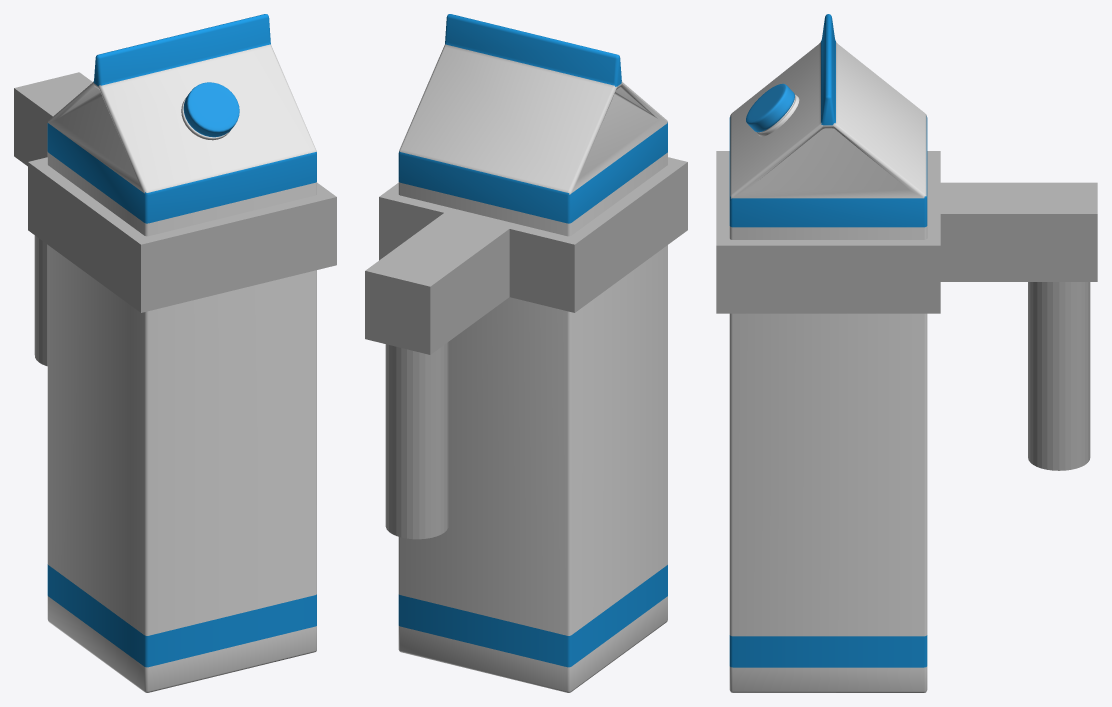
Rendered from carton_handle.fbx.
3 renders of one model, left to right at view 1: azimuth 30°, elevation 25°; view 2: azimuth 150°, elevation 25°; view 3: azimuth 270°, elevation 25°, orthographic.
Parts seen in each view (by area): view 1: Cube, Cube.001, Cube.002, Cylinder, Cylinder.001; view 2: Cube, Cube.001, Cube.002, Cylinder.001; view 3: Cube, Cube.001, Cube.002, Cylinder.001, Cylinder.
Part boxes in pixels (x1=…): Cube: x1=47, y1=14, x2=316, y2=692; Cube.001: x1=28, y1=157, x2=336, y2=312; Cube.002: x1=14, y1=72, x2=92, y2=166; Cylinder: x1=181, y1=82, x2=239, y2=140; Cylinder.001: x1=34, y1=235, x2=47, y2=366; Cube: x1=398, y1=14, x2=667, y2=692; Cube.001: x1=379, y1=157, x2=687, y2=312; Cube.002: x1=365, y1=209, x2=514, y2=354; Cylinder.001: x1=385, y1=342, x2=448, y2=539; Cube: x1=729, y1=14, x2=927, y2=692; Cube.001: x1=716, y1=151, x2=940, y2=313; Cube.002: x1=930, y1=182, x2=1097, y2=281; Cylinder.001: x1=1028, y1=282, x2=1090, y2=470; Cylinder: x1=746, y1=83, x2=799, y2=136.
Size of the model in its own units: 180 by 529 by 306.
